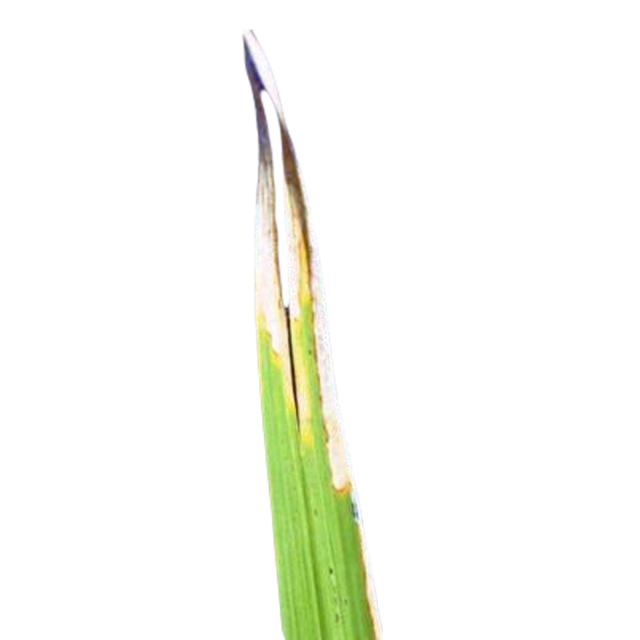Leaf scald: (190, 9, 464, 640)
